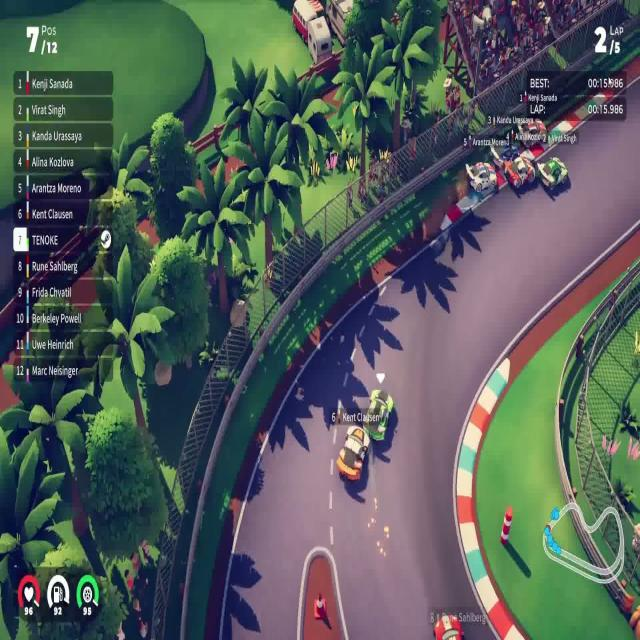car: (336, 424, 370, 483), (362, 387, 394, 442), (464, 160, 498, 194), (537, 156, 568, 191), (506, 158, 537, 187)
